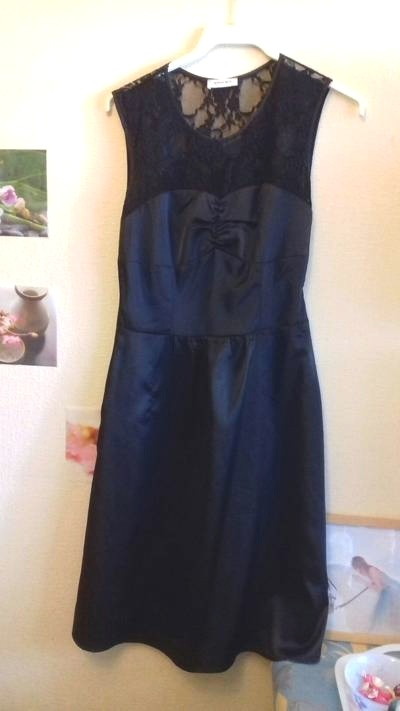Dress: (37, 29, 356, 679)
